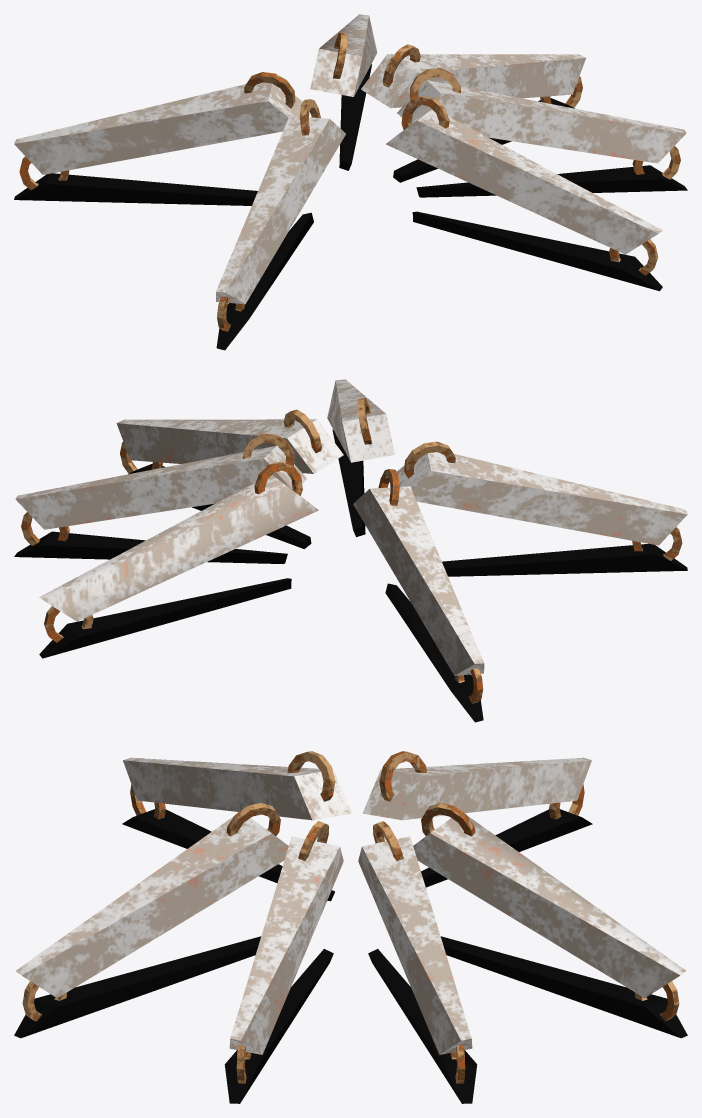
File: torre canhao 2.0 pernas.fbx
3 renders of one model, top to bottom at view 1: azimuth 30°, elevation 25°; view 2: azimuth 150°, elevation 25°; view 3: azimuth 270°, elevation 25°, orthographic. The views are drawn at different scales.
Visible parts, largest first — view 1: aranha.LOD1; view 2: aranha.LOD1; view 3: aranha.LOD1.
Boxes of the visible parts, x1,y1,x2,y2 form: aranha.LOD1: [14, 14, 687, 350]; aranha.LOD1: [14, 379, 687, 722]; aranha.LOD1: [14, 751, 687, 1103].
Size of the model in its own units: 1380 by 369 by 1388.
1 material, 1 textured.
